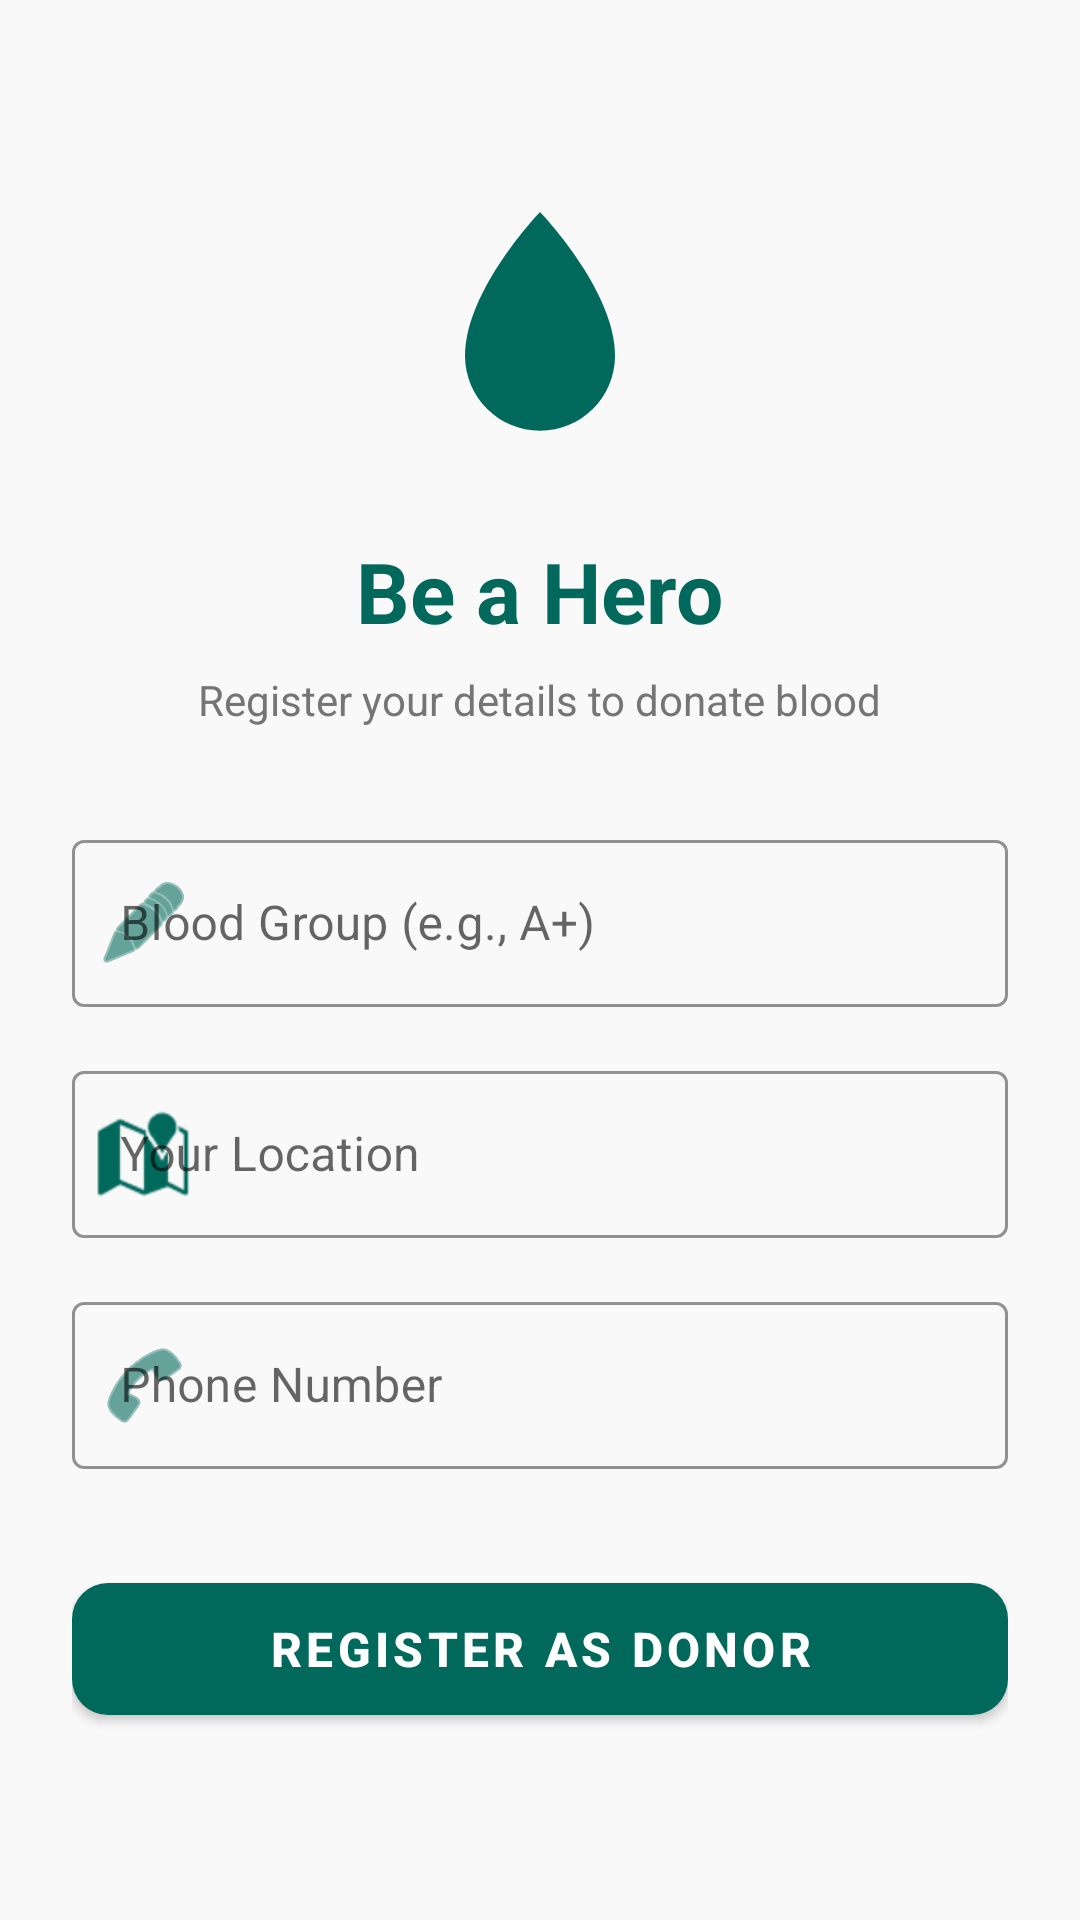

Named icons in this screenshot (1080 x 1920) and their bounding boxes, BBox(x1, y1, x2, y2):
blood drop: BBox(465, 212, 615, 431)
